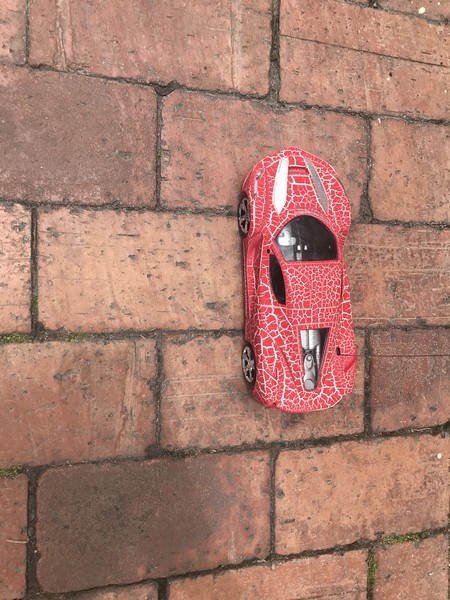RC: (235, 144, 361, 416)
